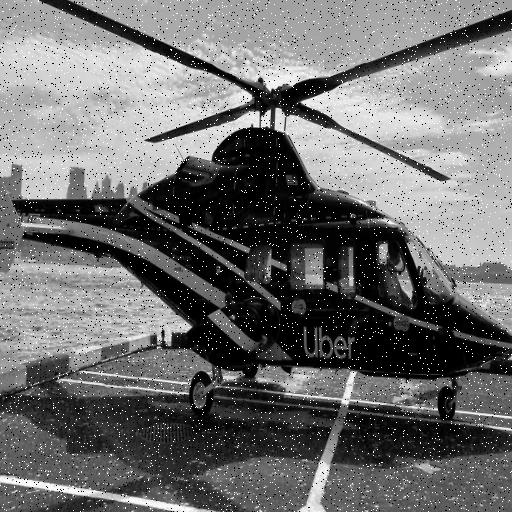helicopter: (1, 1, 512, 421)
